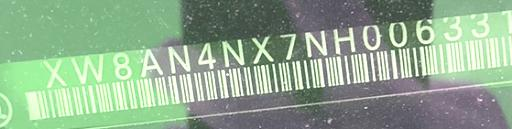letter: (70, 51, 106, 84), (412, 15, 440, 46), (40, 57, 68, 88), (360, 22, 388, 51), (221, 35, 247, 66), (138, 45, 164, 76), (166, 42, 190, 75), (334, 23, 358, 55), (304, 27, 328, 59), (193, 39, 217, 70), (466, 10, 492, 38), (278, 29, 300, 60), (111, 49, 133, 80), (441, 12, 463, 42), (252, 33, 272, 64), (390, 17, 410, 47), (496, 9, 510, 36)
